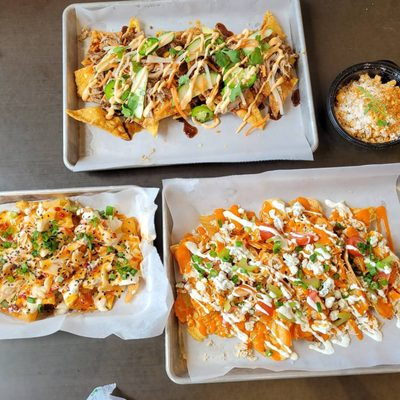sushi: (325, 60, 400, 151)
